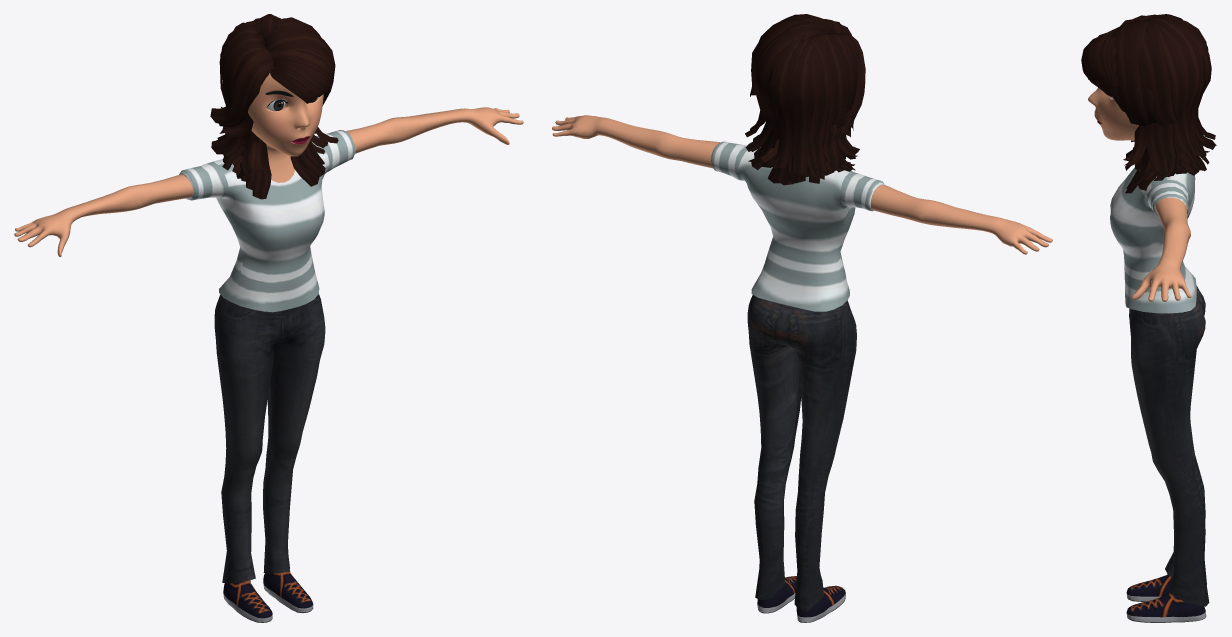
File: girl_3_obj.obj
3 renders of one model, left to right at view 1: azimuth 30°, elevation 25°; view 2: azimuth 150°, elevation 25°; view 3: azimuth 270°, elevation 25°, orthographic.
Parts seen in each view (by area): view 1: girl_A girl_shirt_pant, girl_A girl_Hair, girl_body girl_A; view 2: girl_A girl_shirt_pant, girl_A girl_Hair, girl_body girl_A; view 3: girl_A girl_shirt_pant, girl_A girl_Hair, girl_body girl_A.
Boxes of the visible parts, x1,y1,x2,y2 form: girl_A girl_shirt_pant: (179, 130, 355, 622); girl_A girl_Hair: (210, 14, 338, 199); girl_body girl_A: (14, 73, 523, 256); girl_A girl_shirt_pant: (711, 141, 884, 622); girl_A girl_Hair: (745, 14, 865, 185); girl_body girl_A: (552, 115, 1052, 254); girl_A girl_shirt_pant: (1110, 167, 1209, 622); girl_A girl_Hair: (1081, 14, 1216, 193); girl_body girl_A: (1088, 87, 1191, 301).
Bounding box in the file's own units: 174 × 195 × 41.01.
Materials: 2 (2 with a texture image).
